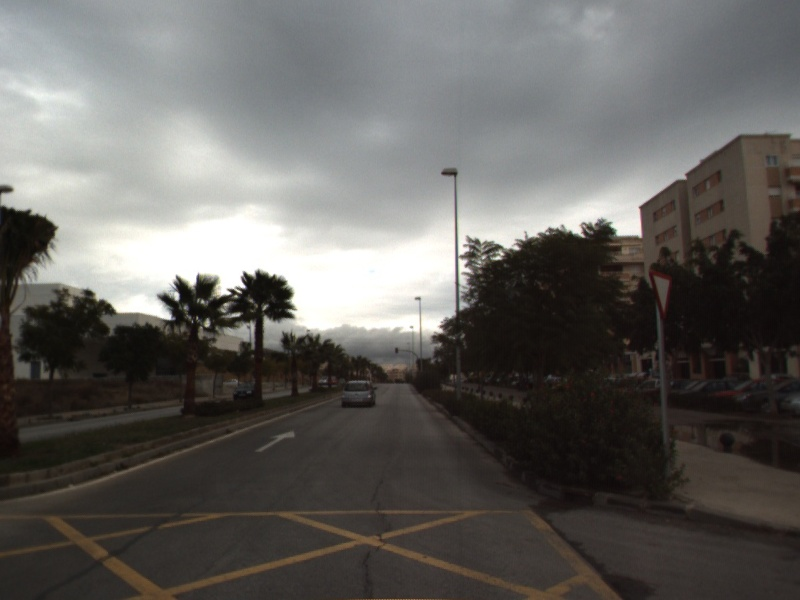STRAIGHT: (253, 428, 296, 454)
